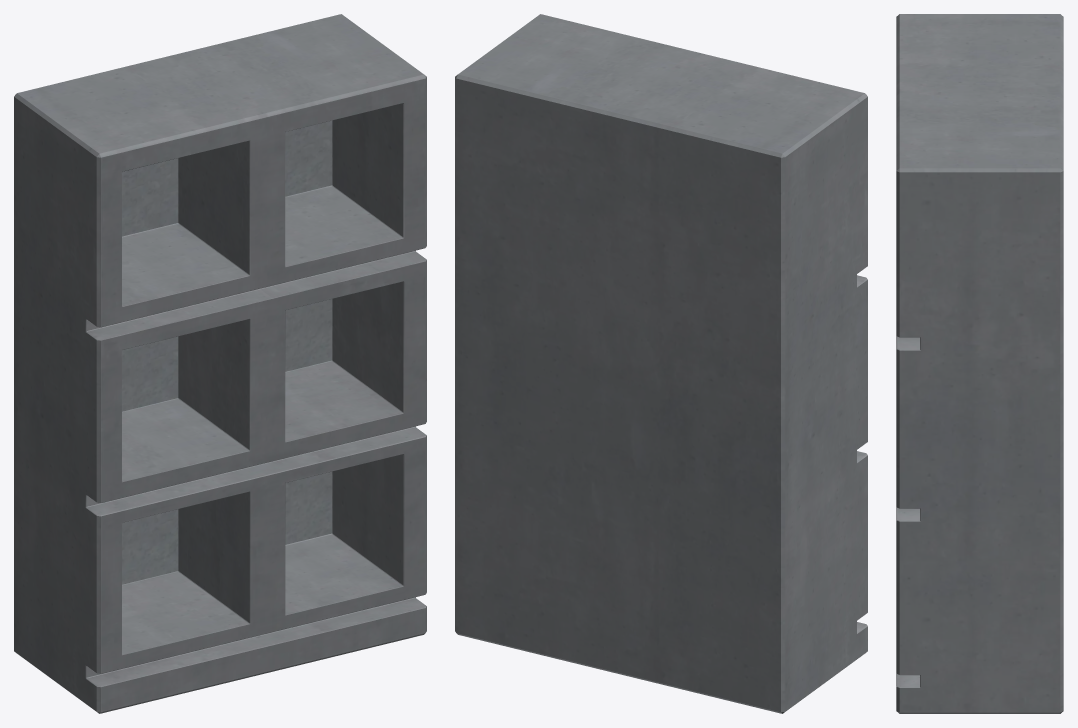
Rendered from Kolumbaria.glb.
The picture shows the model from 3 angles, left to right: view 1: azimuth 30°, elevation 25°; view 2: azimuth 150°, elevation 25°; view 3: azimuth 270°, elevation 25°; orthographic projection. The views are drawn at different scales.
Parts seen in each view (by area): view 1: Kolumbaria; view 2: Kolumbaria; view 3: Kolumbaria.
Boxes of the visible parts, x1,y1,x2,y2 form: Kolumbaria: (14,14,426,713); Kolumbaria: (455,14,867,713); Kolumbaria: (896,14,1063,713).
Bounding box in the file's own units: 2.32 × 3.76 × 1.04.
1 material, 1 textured.
